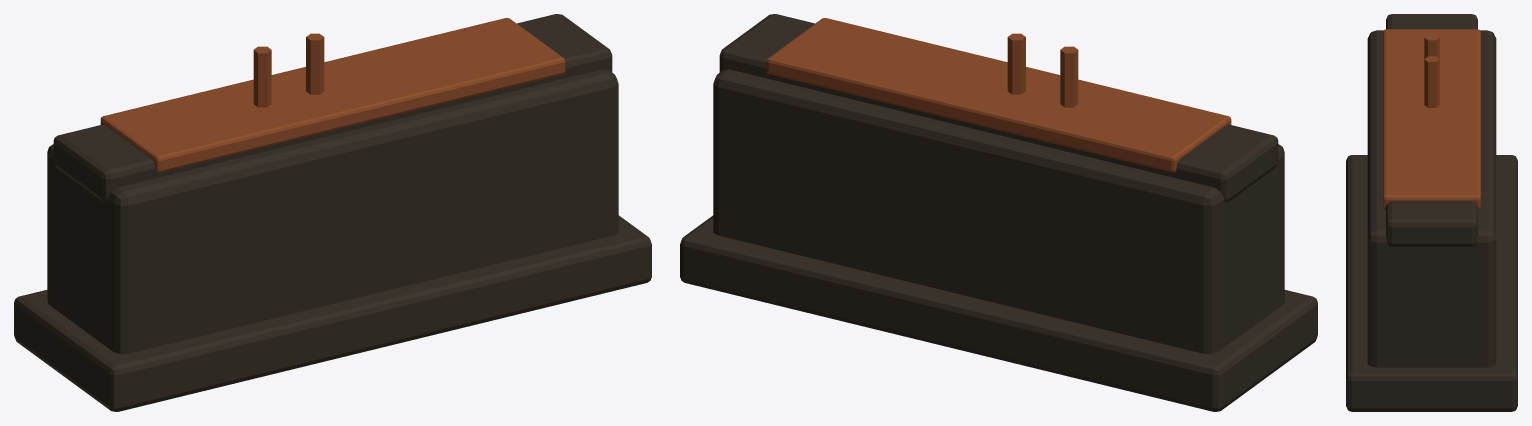
The model's file is barrier_1.glb.
3 renders of one model, left to right at view 1: azimuth 30°, elevation 25°; view 2: azimuth 150°, elevation 25°; view 3: azimuth 270°, elevation 25°, orthographic. The views are drawn at different scales.
Visible parts, largest first — view 1: barrier; view 2: barrier; view 3: barrier.
Boxes of the visible parts, bbox=[...] form: barrier: bbox=[14, 14, 651, 411]; barrier: bbox=[680, 14, 1317, 411]; barrier: bbox=[1346, 14, 1517, 411].
Bounding box in the file's own units: 1.72 × 0.85 × 0.56.
